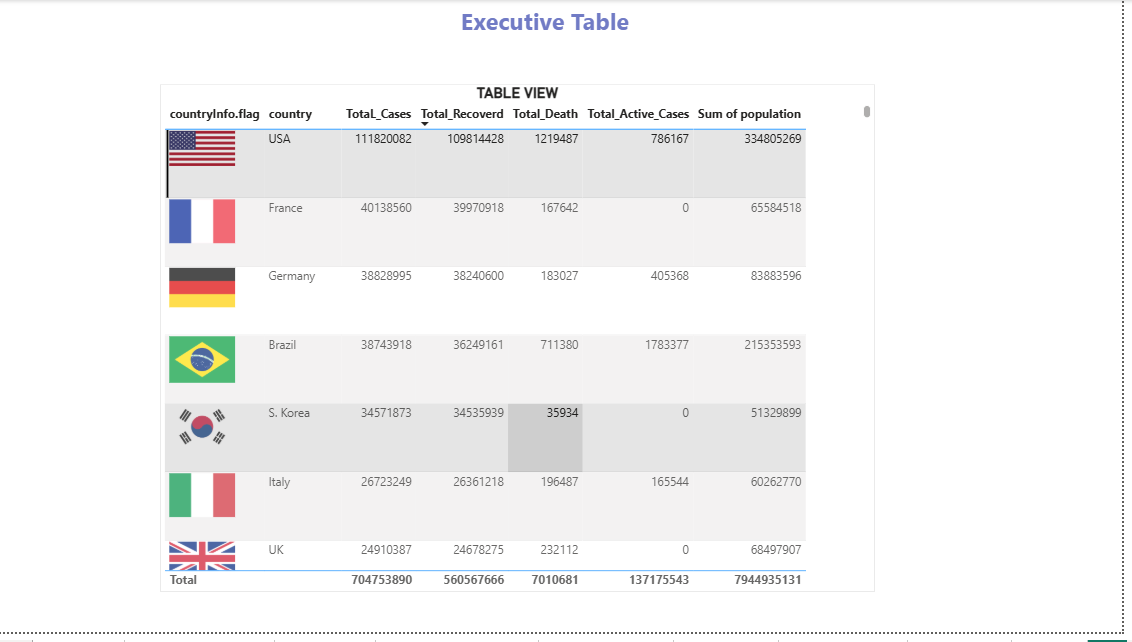

This screenshot's page, from the dashboard's own definition file:
{"tool":"powerbi","page":{"name":"Table _View","canvas":[1280,720],"ordinal":7},"visuals":[{"type":"tableEx","title":"TABLE  VIEW ","fields":{"Values":["Covid_19.countryInfo.flag","Covid_19.country","Covid_19.TotaL_Cases","Covid_19.Total_Recoverd","Covid_19.Total_Death","Covid_19.Total_Active_Cases","Sum(Covid_19.population)"]},"box":[184.6,95.7,814.6,578.7],"z":0},{"type":"textbox","box":[0,0,1246.3,95.7],"z":1}]}

Visuals, with their boxes in screenshot pixels (x1, y1, x2, y2), scaled from the page's 1280x720 canvas onto the 1132x642 screenshot:
"TABLE  VIEW " tableEx: (163,85,884,601)
textbox: (0,0,1102,85)
